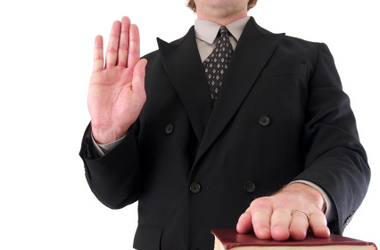open_hand: (80, 12, 166, 152)
